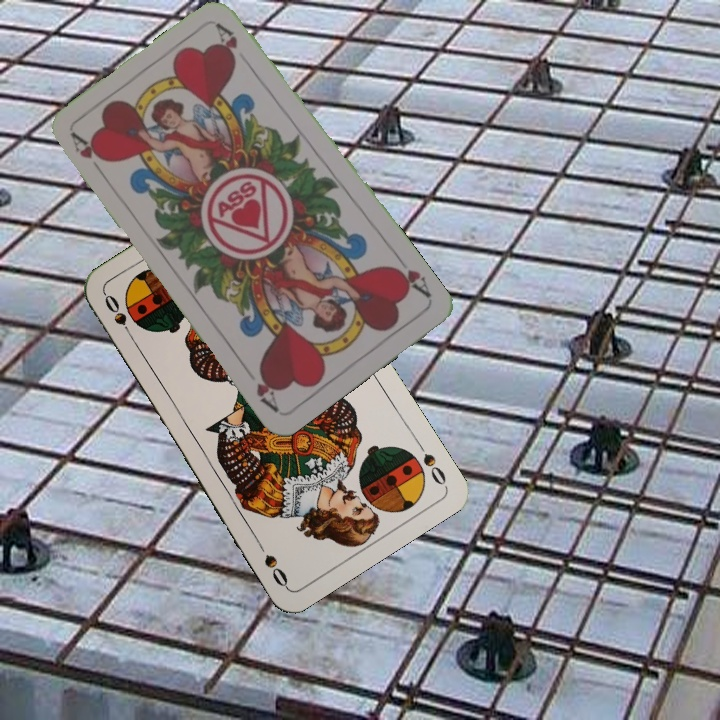HA: (386, 251, 434, 301), (67, 129, 110, 181)
SO: (100, 290, 138, 344), (412, 436, 449, 488)
